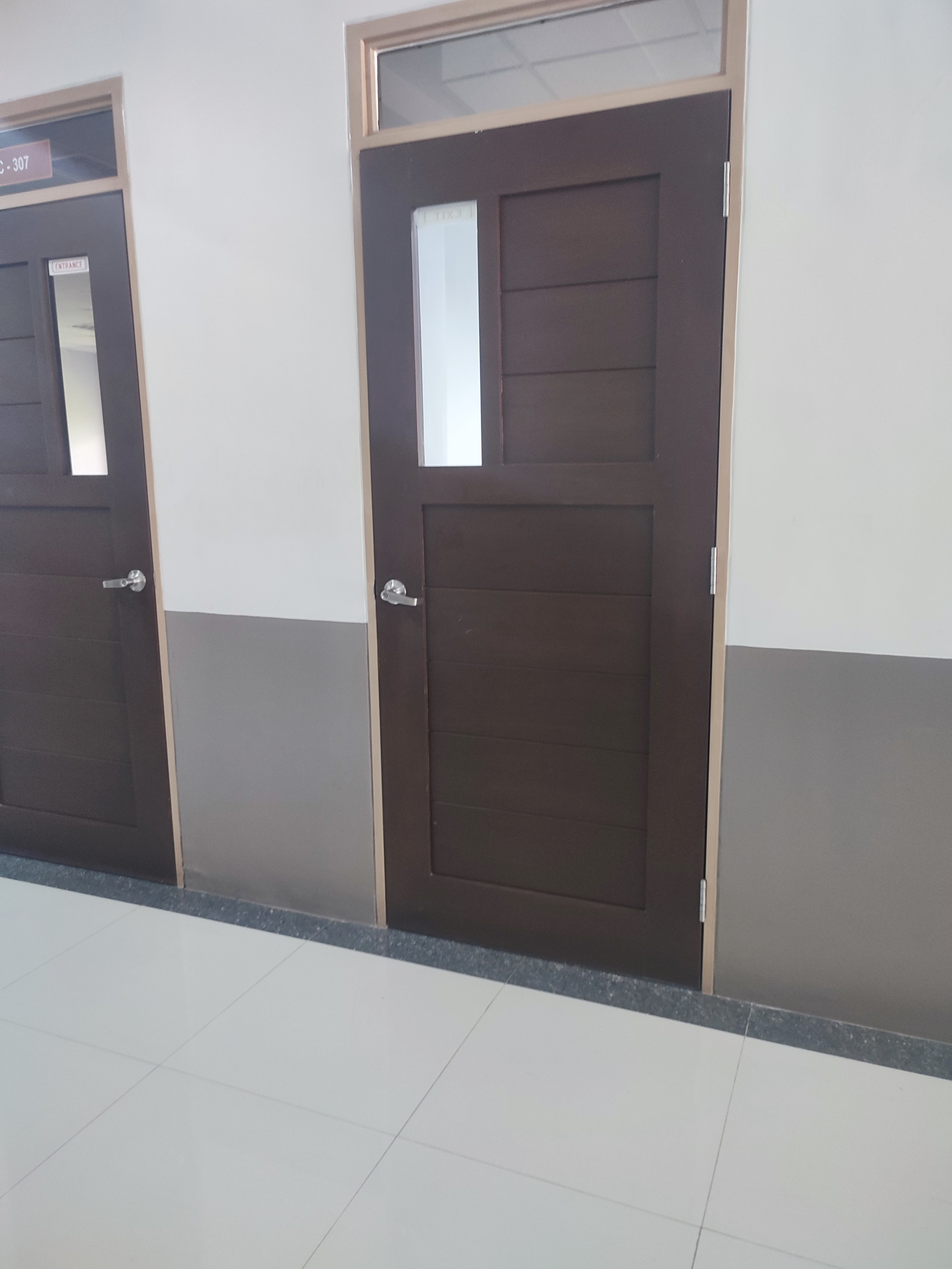door: (342, 0, 706, 987), (0, 74, 175, 883)
